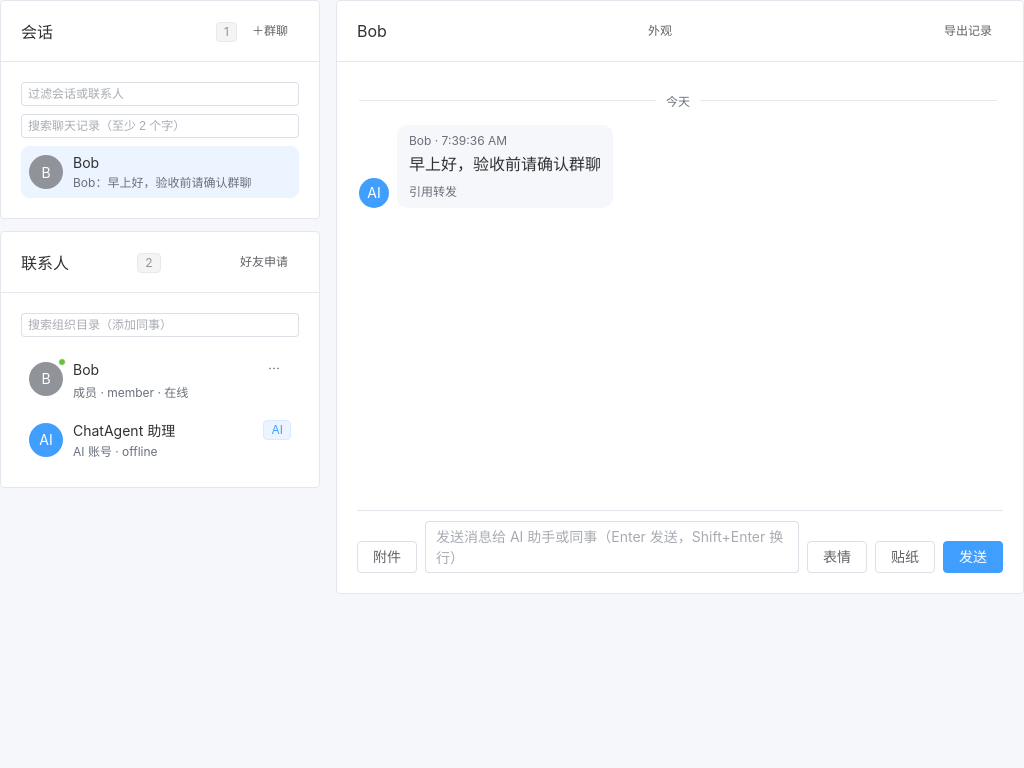
ChatView › does not offer people who are already in the contact list as directory results
Type "bob" into the field with placeholder "搜索组织目录（添加同事）" at [160, 325], box [28,314,292,336]
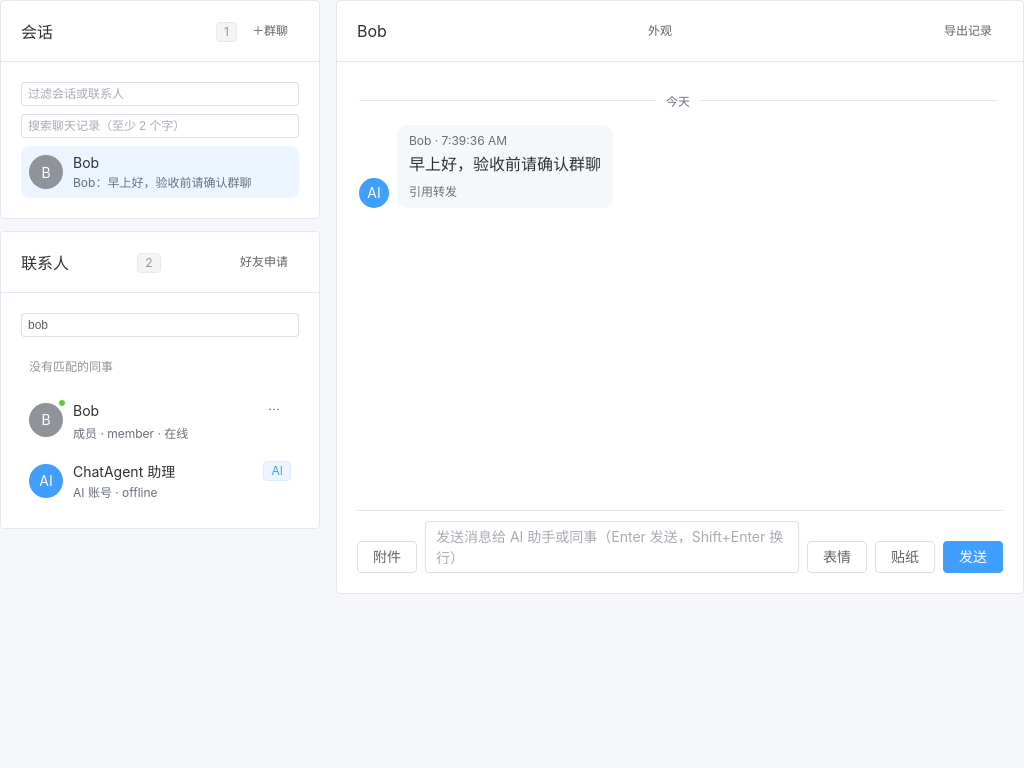
Check: the element with test id "directory-results" reads "没有匹配的同事", box [29,359,113,374]
